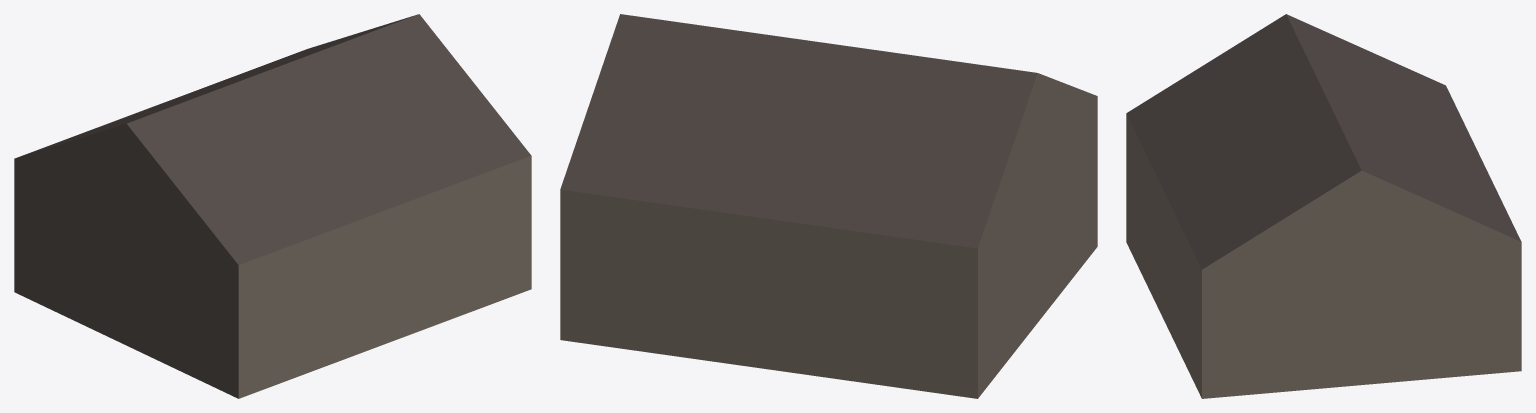
3 renders of one model, left to right at view 1: azimuth 30°, elevation 25°; view 2: azimuth 150°, elevation 25°; view 3: azimuth 270°, elevation 25°, orthographic. The views are drawn at different scales.
Visible parts, largest first — view 1: HP-w859447964; view 2: HP-w859447964; view 3: HP-w859447964.
Boxes of the visible parts, box(x1,y1,x2,y2) form: HP-w859447964: box(14, 14, 531, 398); HP-w859447964: box(560, 14, 1097, 398); HP-w859447964: box(1126, 14, 1521, 398).
Size of the model in its own units: 18.35 by 9.96 by 16.63.
